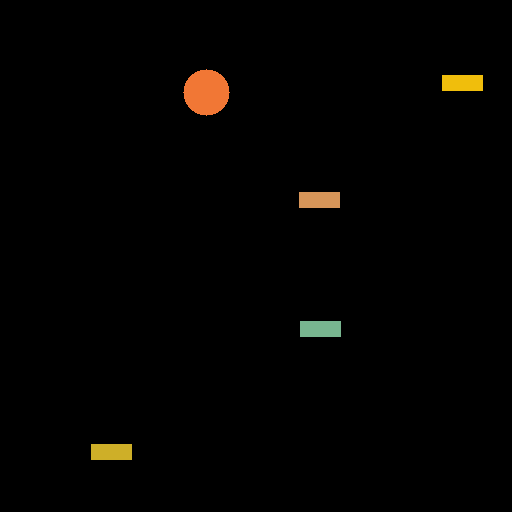circle: (180, 67, 232, 116)
side_rect: (296, 189, 344, 212), (436, 69, 484, 92), (295, 317, 343, 340), (89, 440, 137, 463)
